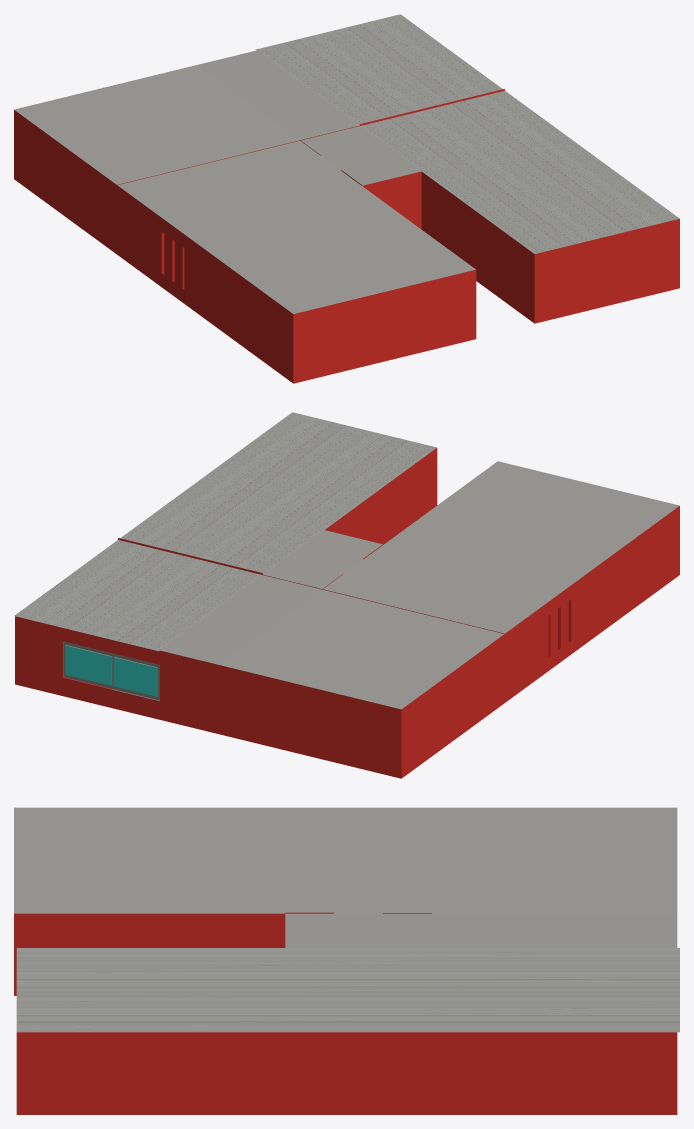
File: Talleres (1).fbx
3 renders of one model, top to bottom at view 1: azimuth 30°, elevation 25°; view 2: azimuth 150°, elevation 25°; view 3: azimuth 270°, elevation 25°, orthographic. The views are drawn at different scales.
Visible parts, largest first — view 1: Techo, Paredes, Ventana vertical; view 2: Techo, Paredes, Ventana, Ventana vertical; view 3: Techo, Paredes.
Part boxes in pixels (bbox=[...]): Techo: bbox=[14, 14, 679, 313]; Paredes: bbox=[14, 89, 679, 383]; Ventana vertical: bbox=[161, 232, 184, 289]; Techo: bbox=[14, 412, 679, 709]; Paredes: bbox=[15, 448, 679, 778]; Ventana: bbox=[63, 641, 159, 701]; Ventana vertical: bbox=[548, 592, 571, 656]; Techo: bbox=[14, 807, 679, 1032]; Paredes: bbox=[14, 912, 677, 1114].
Bounding box in the file's own units: 4033 × 718 × 5055.
